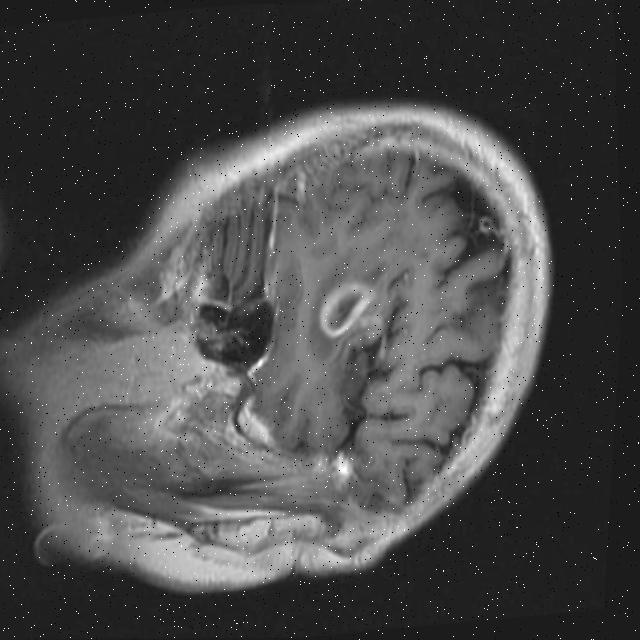Glioma: (313, 278, 379, 340)
